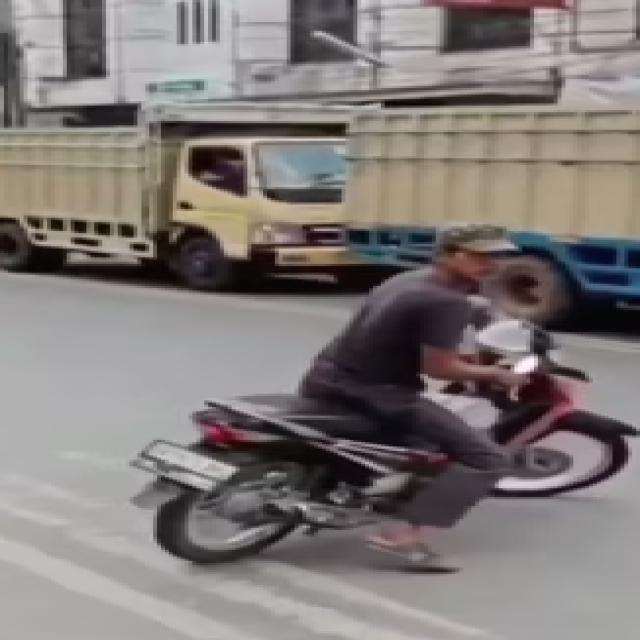WithoutHelmet: (294, 224, 546, 572)
